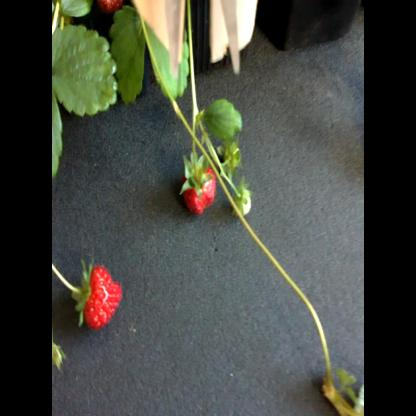ripe: (82, 262, 135, 333), (175, 151, 221, 212), (97, 1, 127, 16)
unripe: (235, 184, 256, 219)
